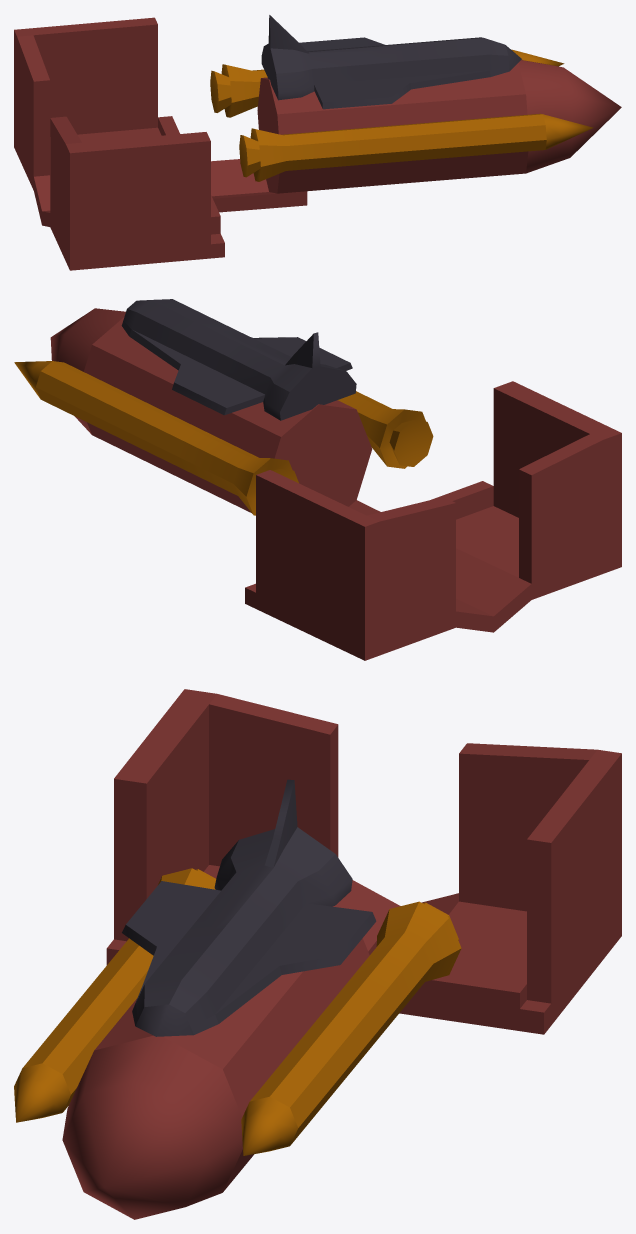
File: Space_Ship_Anim.fbx
The picture shows the model from 3 angles, top to bottom: view 1: azimuth 30°, elevation 25°; view 2: azimuth 150°, elevation 25°; view 3: azimuth 270°, elevation 25°; orthographic projection. The views are drawn at different scales.
Visible parts, largest first — view 1: embarcacao2; view 2: embarcacao2; view 3: embarcacao2.
Part boxes in pixels (x1,y1,x2,y2): embarcacao2: (14, 15, 621, 270); embarcacao2: (14, 299, 621, 660); embarcacao2: (14, 689, 621, 1219).
Size of the model in its own units: 20.59 by 7.09 by 13.24.
